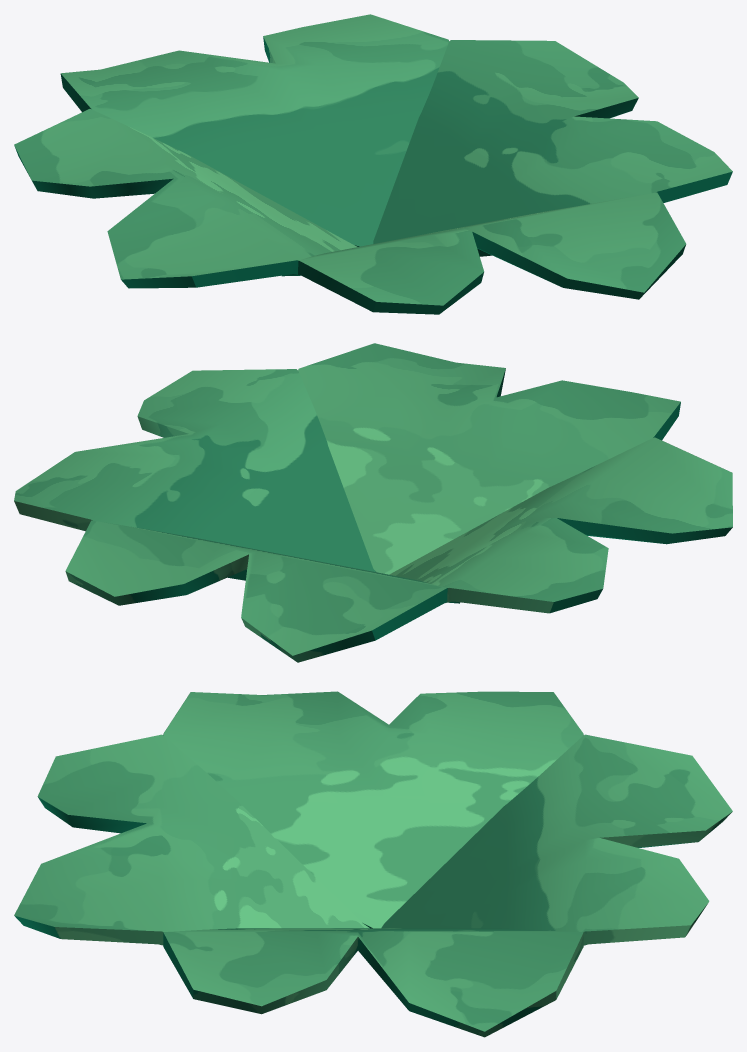
File: 4yaprakot.fbx
3 renders of one model, top to bottom at view 1: azimuth 30°, elevation 25°; view 2: azimuth 150°, elevation 25°; view 3: azimuth 270°, elevation 25°, orthographic. The views are drawn at different scales.
Parts seen in each view (by area): view 1: ot.010; view 2: ot.010; view 3: ot.010.
Part boxes in pixels (box(x1,y1,x2,y2)): ot.010: box(14, 14, 732, 314); ot.010: box(14, 343, 732, 662); ot.010: box(14, 691, 732, 1037).
Size of the model in its own units: 3.57 by 0.7188 by 3.58.
1 material, 1 textured.
